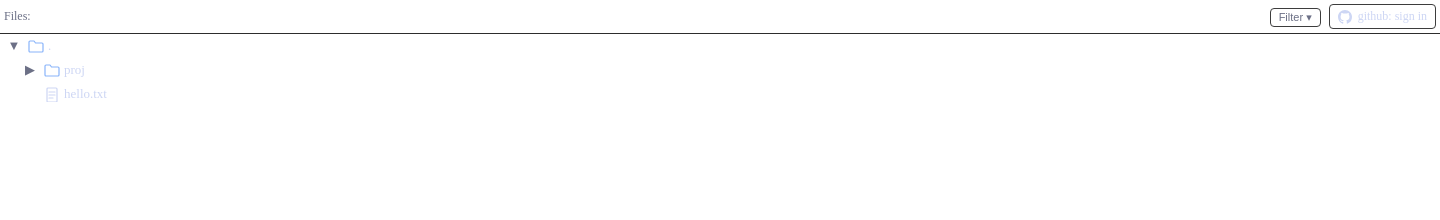
Test: FileTree readOnly / features › shows the built-in github toolbar and context-menu items by default
The image size is (1440, 220).
Expected: the button "github: sign in" is shown, [1329,4,1436,29]
Right-click the text "proj": x=74, y=70 [64,62,85,78]
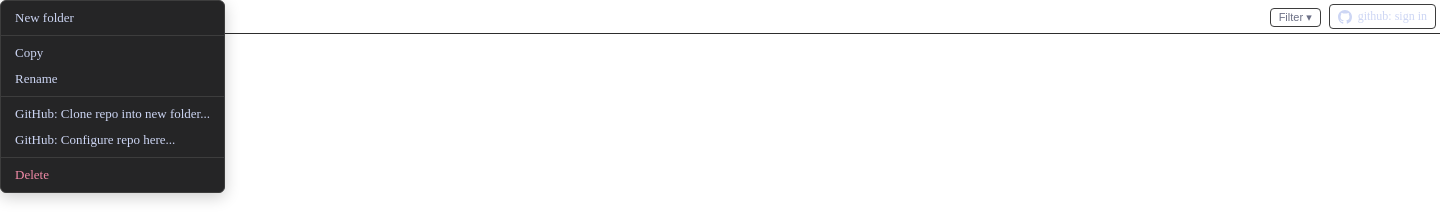
Now the text "GitHub: Clone repo into new folder..." is shown, box [15,106,210,121]
